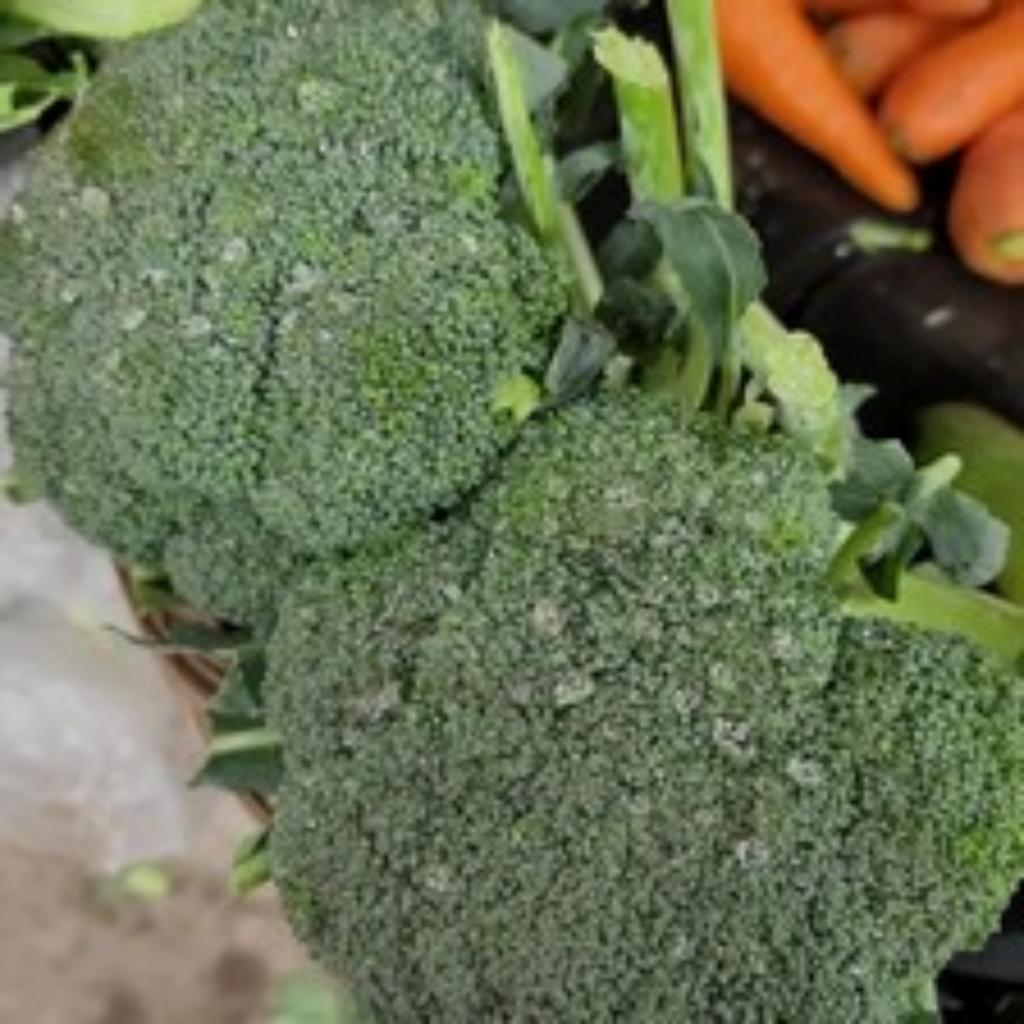Broccoli: (16, 4, 1024, 1023), (18, 4, 1024, 1024)
